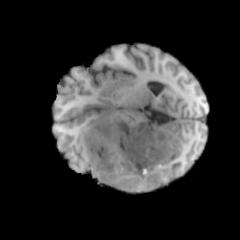glioma: (79, 115, 196, 191)
